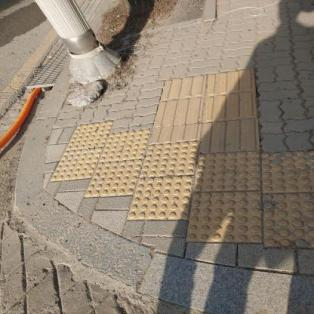Podoctatil: (48, 70, 314, 254)
